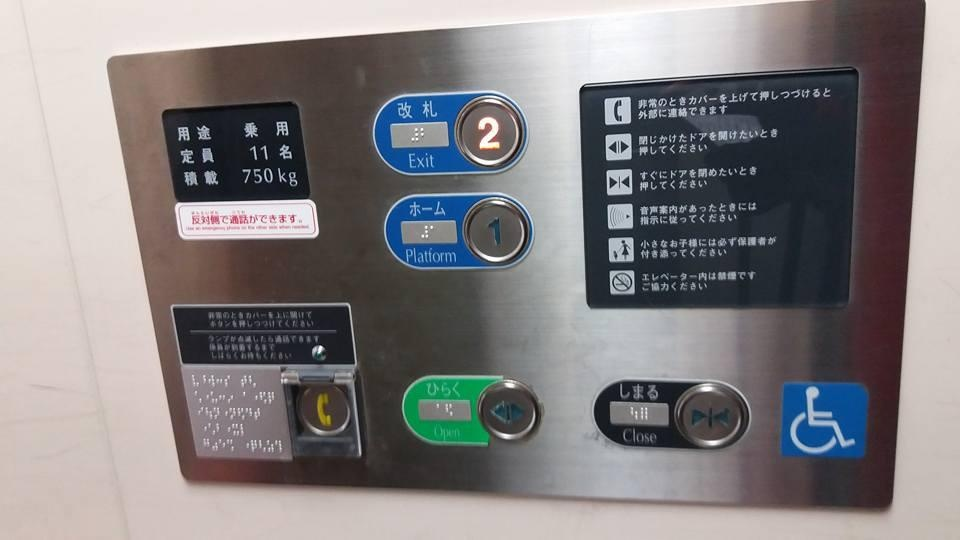1: (460, 194, 538, 268)
2: (452, 92, 530, 173)
CH: (776, 377, 868, 461)
call: (292, 379, 354, 440)
close: (670, 378, 752, 454)
open: (473, 376, 544, 446)
